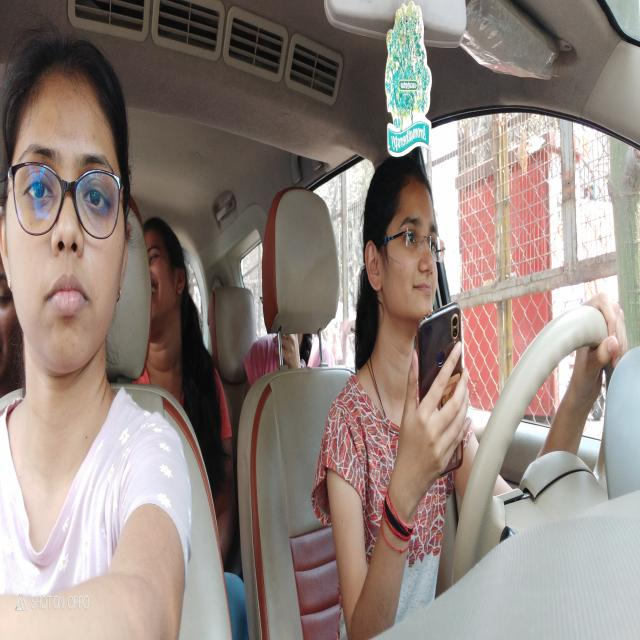mobile: (416, 302, 470, 478)
person: (1, 34, 140, 400), (365, 147, 464, 322), (148, 203, 200, 350)
